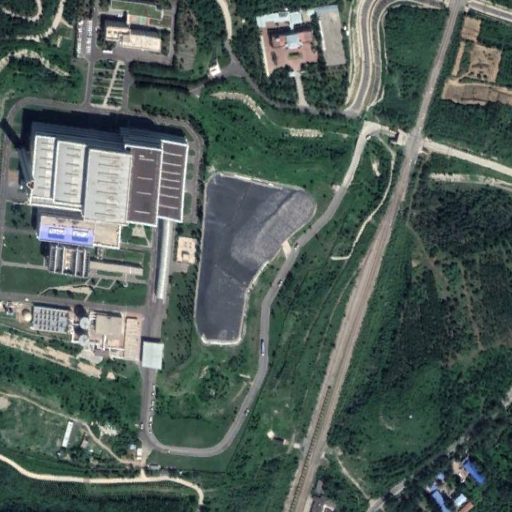lf: (195, 173, 317, 345)
